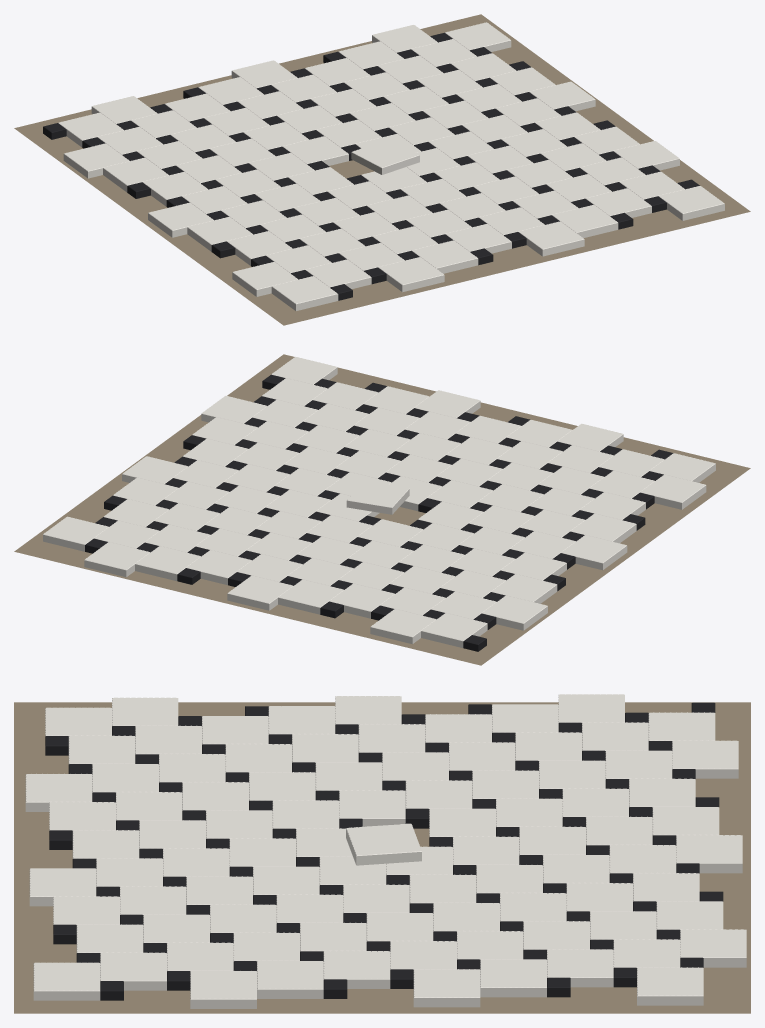
Rendered from terilgan.glb.
3 views of the same model, one above another, from view 1: azimuth 30°, elevation 25°; view 2: azimuth 150°, elevation 25°; view 3: azimuth 270°, elevation 25° (orthographic). The views are drawn at different scales.
Visible parts, largest first — view 1: qum, t.086, t, t.077, t.018, t.137, t.033, t.037, t.014, t.002, t.097, t.171 (+78 smaller); view 2: qum, t.086, t.055, t.002, t.014, t.033, t.135, t.177, t.075, t.169, t.115, t.179 (+79 smaller); view 3: qum, t.086, t.137, t.171, t.172, t.179, t.157, t.158, t.177, t.135, t.173, t.075 (+79 smaller).
Boxes of the visible parts, x1,y1,x2,y2 form: qum: (14,14,750,325); t.086: (351,139,419,174); t: (271,276,338,310); t.077: (518,221,584,256); t.018: (378,257,444,292); t.137: (658,186,724,220); t.033: (63,143,129,178); t.037: (412,240,478,273); t.014: (148,202,213,237); t.002: (232,262,297,296); t.097: (552,205,618,238); t.171: (529,81,595,111); qum: (14,354,750,665); t.086: (346,481,409,514); t.055: (421,613,487,647); t.002: (640,474,706,509); t.014: (561,535,627,570); t.033: (482,595,547,630); t.135: (227,575,293,610); t.177: (84,542,150,577); t.075: (370,609,436,644); t.169: (135,546,200,581); t.115: (278,579,343,614); t.179: (43,516,108,551); qum: (14,702,750,1013); t.086: (346,823,421,865); t.137: (33,962,100,1000); t.171: (413,969,480,1007); t.172: (480,959,546,997); t.179: (637,967,703,1005); t.157: (190,971,256,1008); t.158: (257,961,323,998); t.177: (680,929,746,967); t.135: (676,835,742,873); t.173: (547,949,613,987); t.075: (672,740,738,778).
Bounding box in the file's own units: 1.66 × 0.052 × 1.66.
